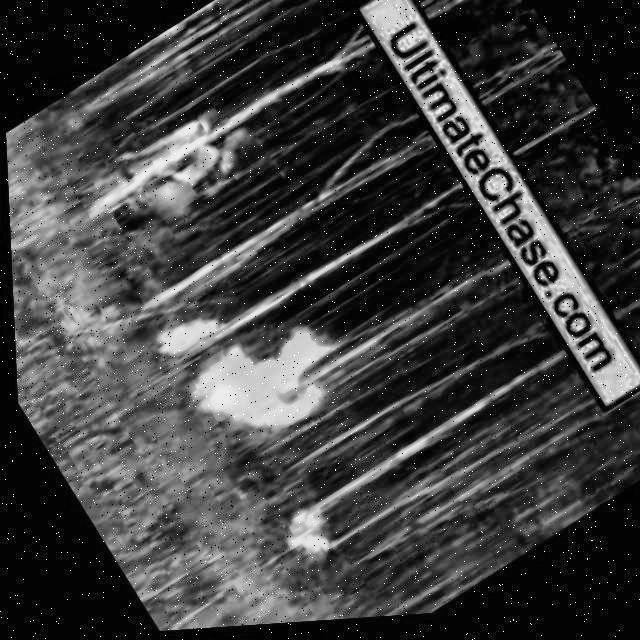Fire: (182, 307, 345, 464), (266, 500, 339, 574), (147, 304, 228, 366)
